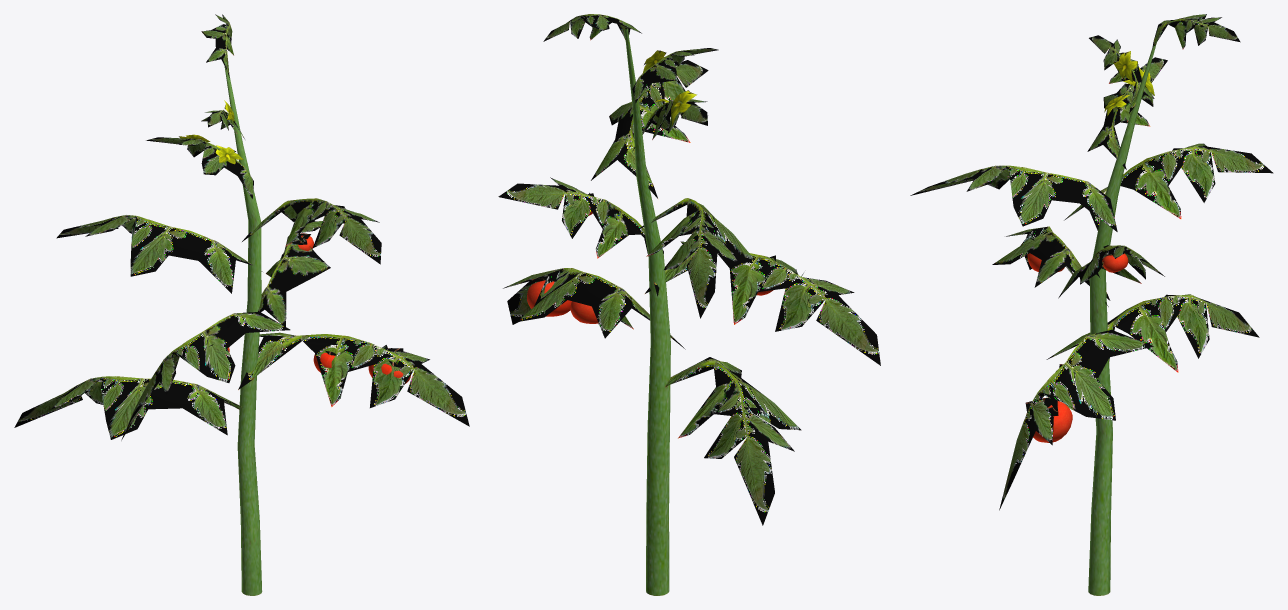
File: tomato-plant.glb
3 views of the same model, side by side, from view 1: azimuth 30°, elevation 25°; view 2: azimuth 150°, elevation 25°; view 3: azimuth 270°, elevation 25° (orthographic). The views are drawn at different scales.
Parts seen in each view (by area): view 1: tomato-plant; view 2: tomato-plant; view 3: tomato-plant.
Part boxes in pixels (bbox=[...]): tomato-plant: bbox=[14, 14, 469, 595]; tomato-plant: bbox=[498, 14, 880, 595]; tomato-plant: bbox=[910, 14, 1273, 595].
Bounding box in the file's own units: 0.7648 × 1.15 × 0.65.
Materials: 1 (1 with a texture image).
